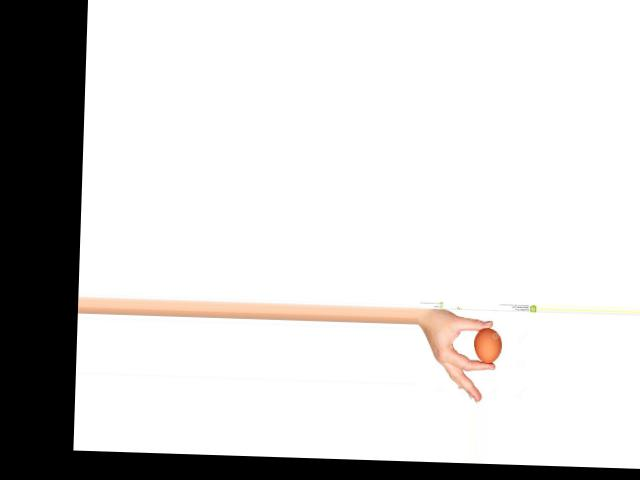egg: (472, 326, 502, 363)
